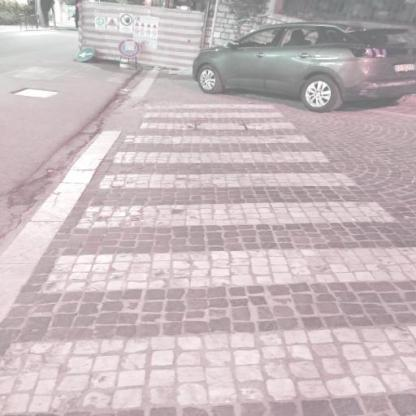crosswalk: (69, 171, 401, 230), (117, 120, 314, 149)
